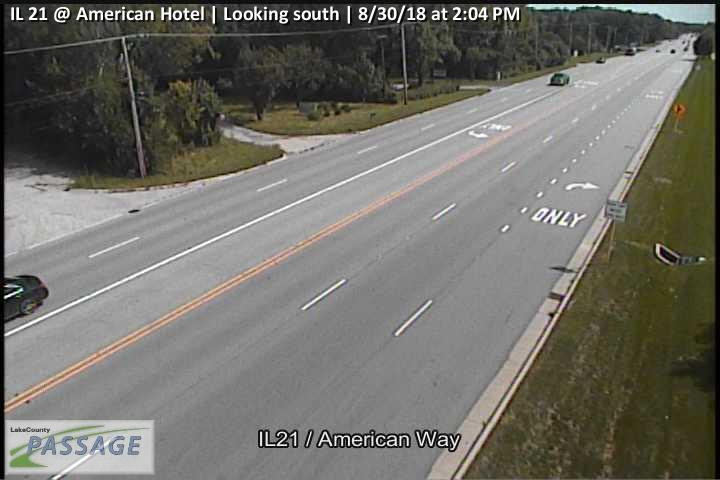Sedan: (548, 71, 571, 86)
